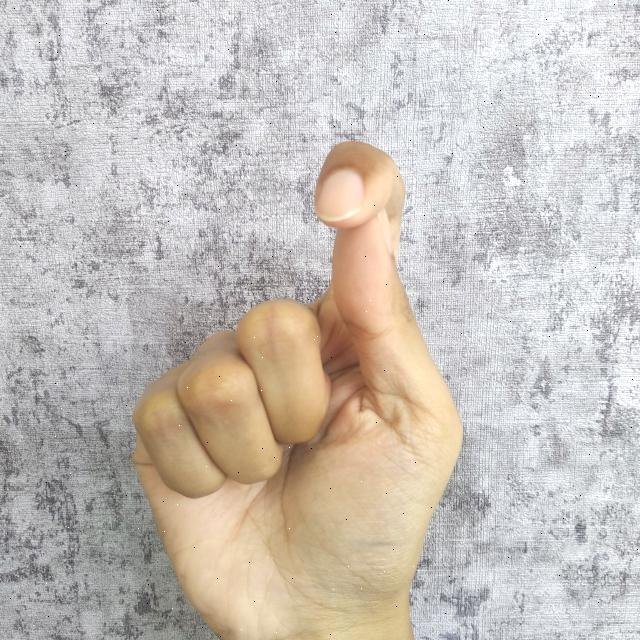T: (127, 134, 469, 640)
